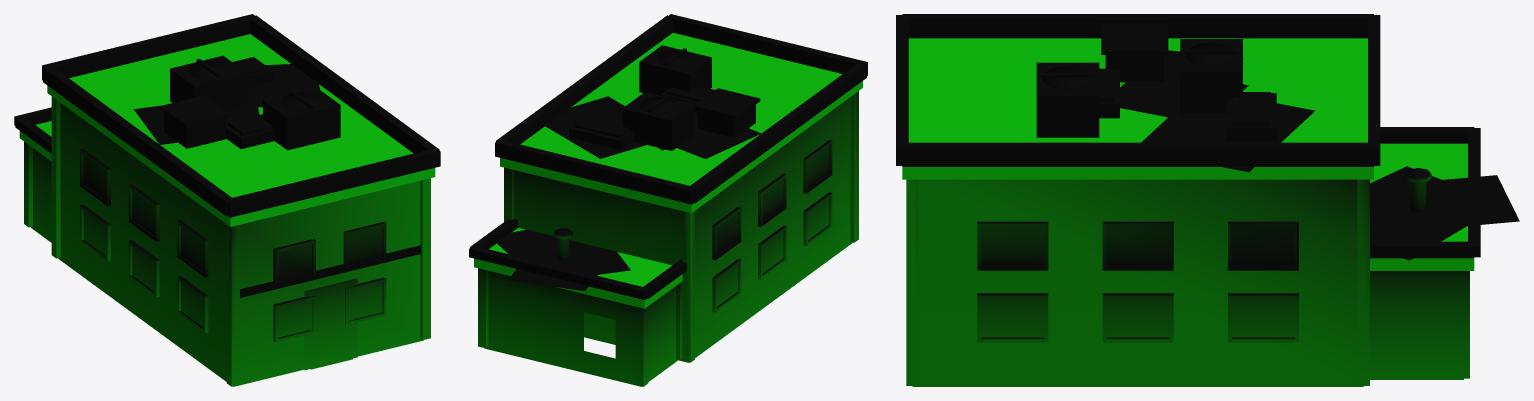
File: 2storycivliving.glb
3 renders of one model, left to right at view 1: azimuth 30°, elevation 25°; view 2: azimuth 150°, elevation 25°; view 3: azimuth 270°, elevation 25°, orthographic. The views are drawn at different scales.
Parts seen in each view (by area): view 1: lod0; view 2: lod0; view 3: lod0.
Boxes of the visible parts, x1,y1,x2,y2 form: lod0: [14, 14, 440, 386]; lod0: [469, 14, 867, 386]; lod0: [896, 14, 1519, 386].
Size of what is drawn, in the model's own units: 7.93 by 7.24 by 14.94.
